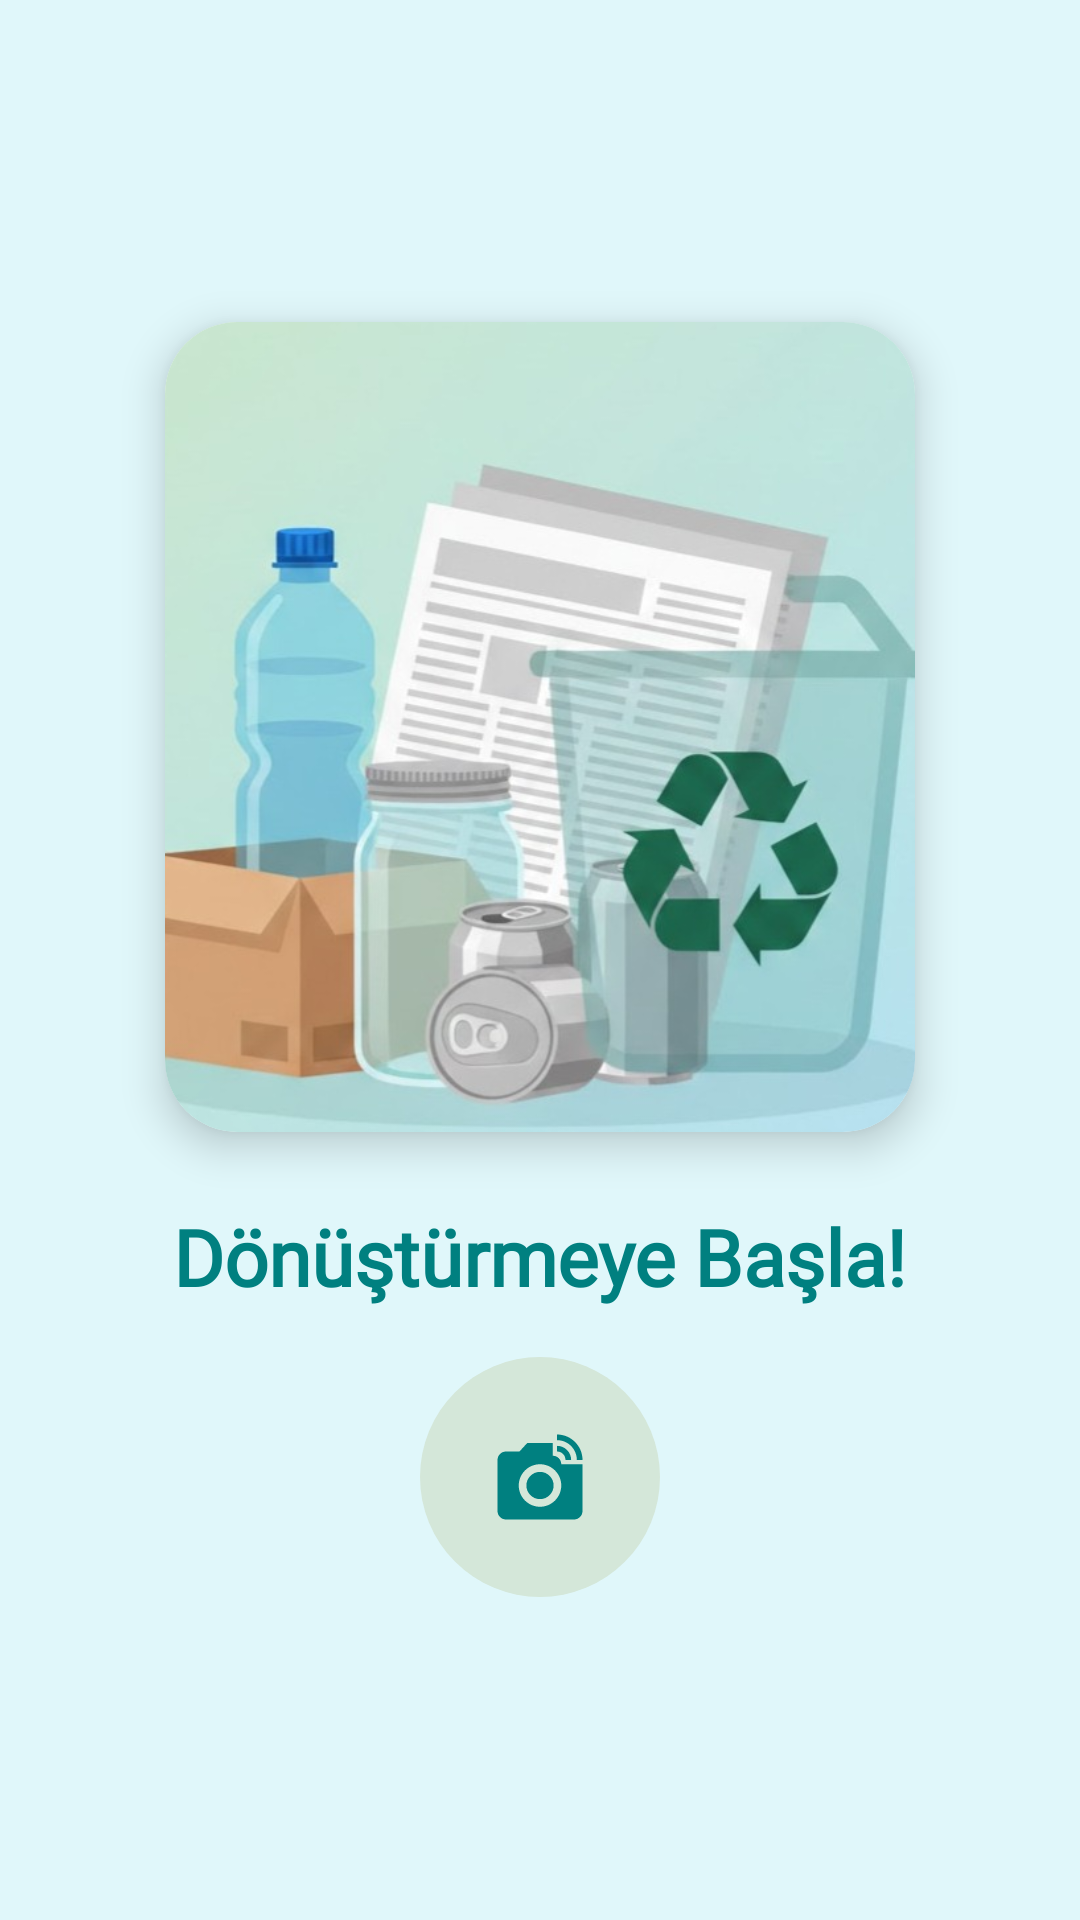

Icons on this 1080px x 1920px Android screen, each with its box as BBox(x1, y1, x2, y2):
linked camera: BBox(420, 1357, 660, 1597)
